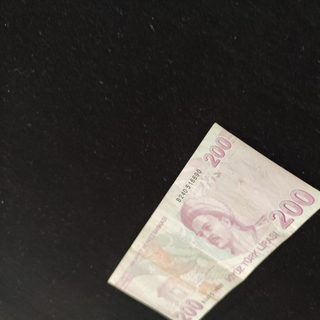200TLBack: (107, 122, 320, 319)
